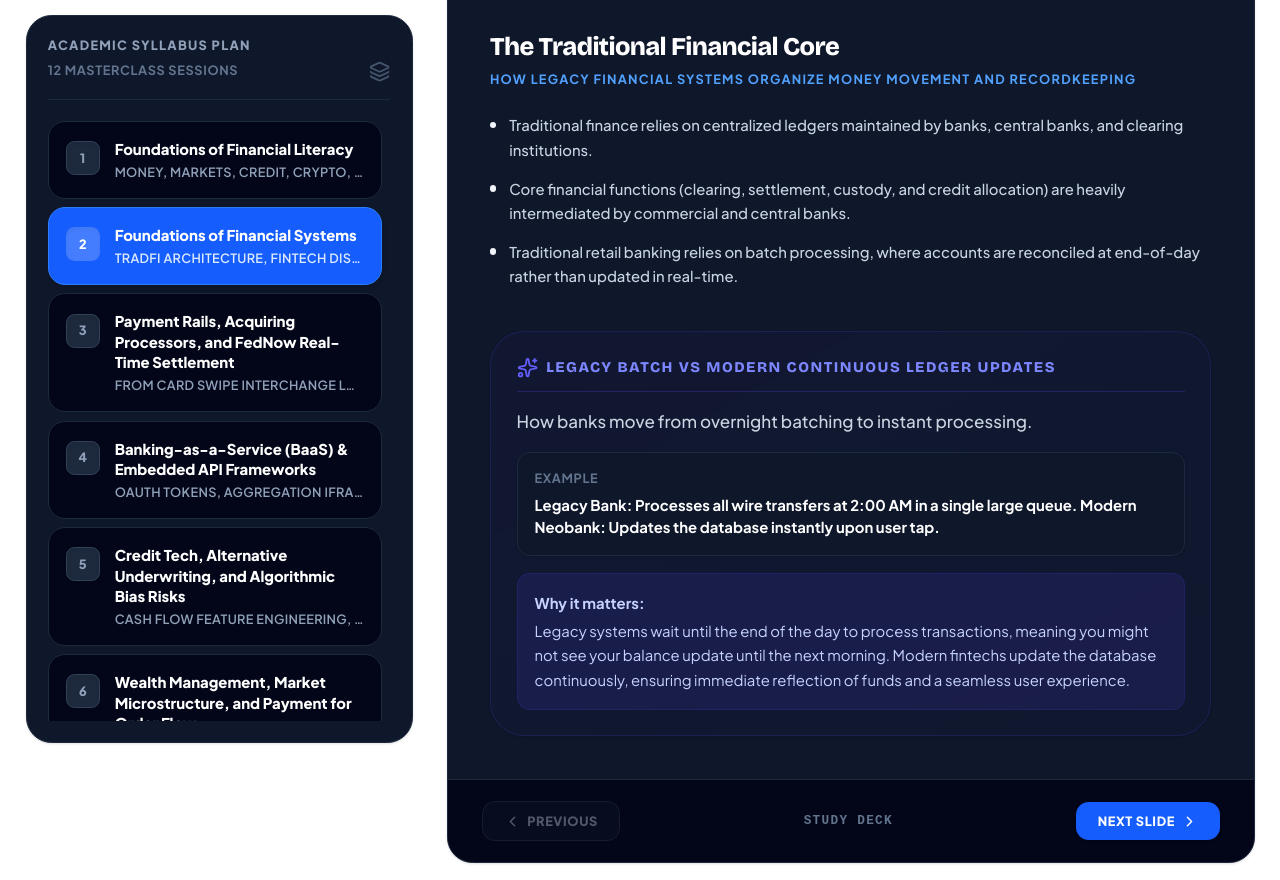
it: KnowledgeBase › goes to the previous slide
(page scrolled)
Click the button "Next Slide".
click(1148, 821)  # box 1076,802 -> 1220,840
(page scrolled)
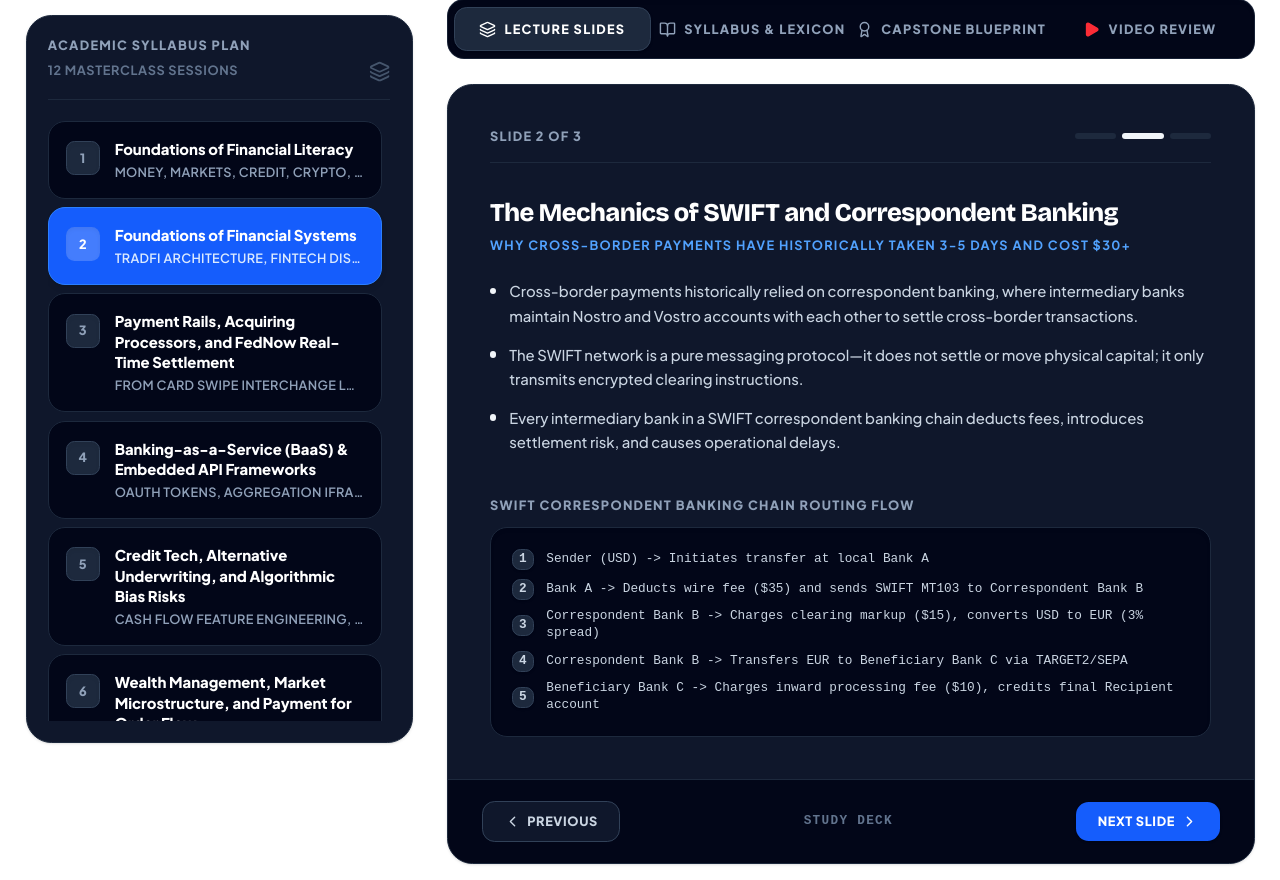
expect the text "SLIDE 2 OF 3" is shown: met, box 490,128 -> 582,145
Click the button "Previous".
click(551, 822)  # box 482,801 -> 620,842
(page scrolled)
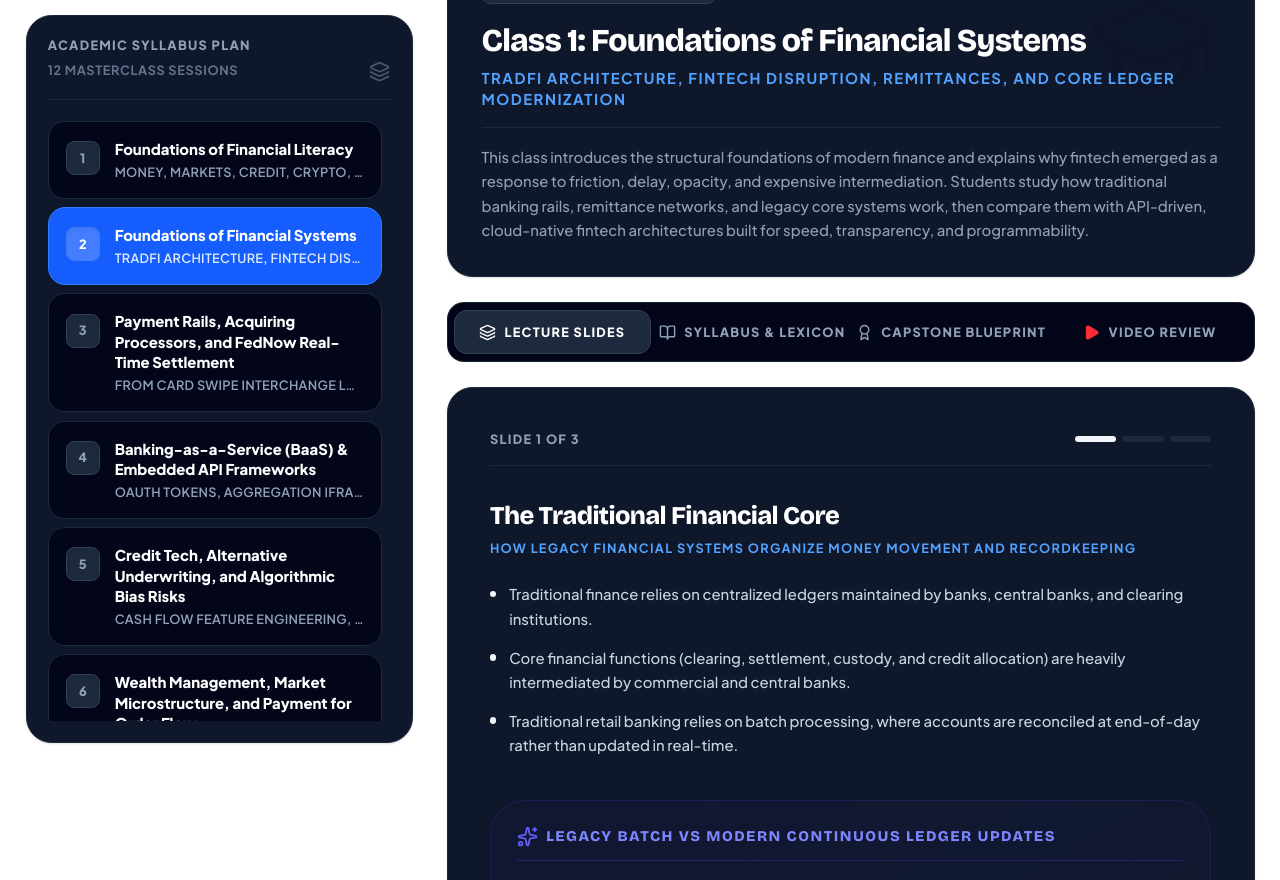
expect the text "SLIDE 1 OF 3" is shown: met, box 490,431 -> 580,448
